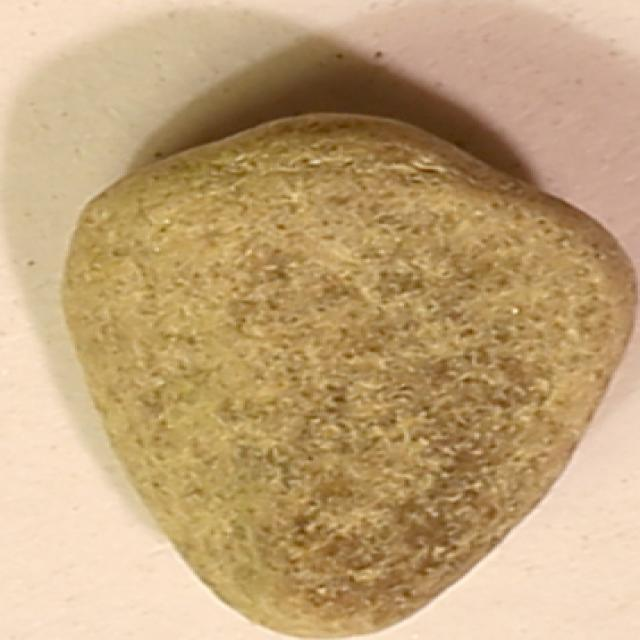stone: (44, 109, 632, 637)
